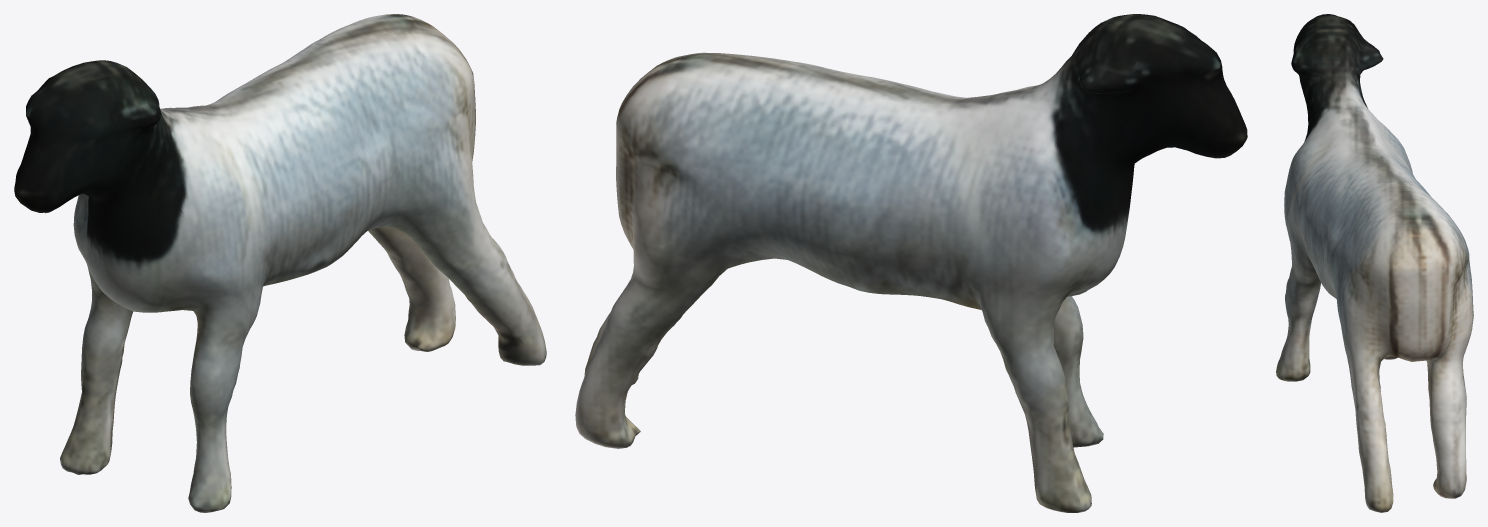
The model's file is bebe.glb.
3 renders of one model, left to right at view 1: azimuth 30°, elevation 25°; view 2: azimuth 150°, elevation 25°; view 3: azimuth 270°, elevation 25°, orthographic. The views are drawn at different scales.
Parts seen in each view (by area): view 1: mesh; view 2: mesh; view 3: mesh.
Part boxes in pixels (bbox=[...]): mesh: bbox=[14, 14, 546, 512]; mesh: bbox=[575, 14, 1247, 512]; mesh: bbox=[1276, 14, 1473, 512].
Bounding box in the file's own units: 1.64 × 1.2 × 0.669.
1 material, 1 textured.
